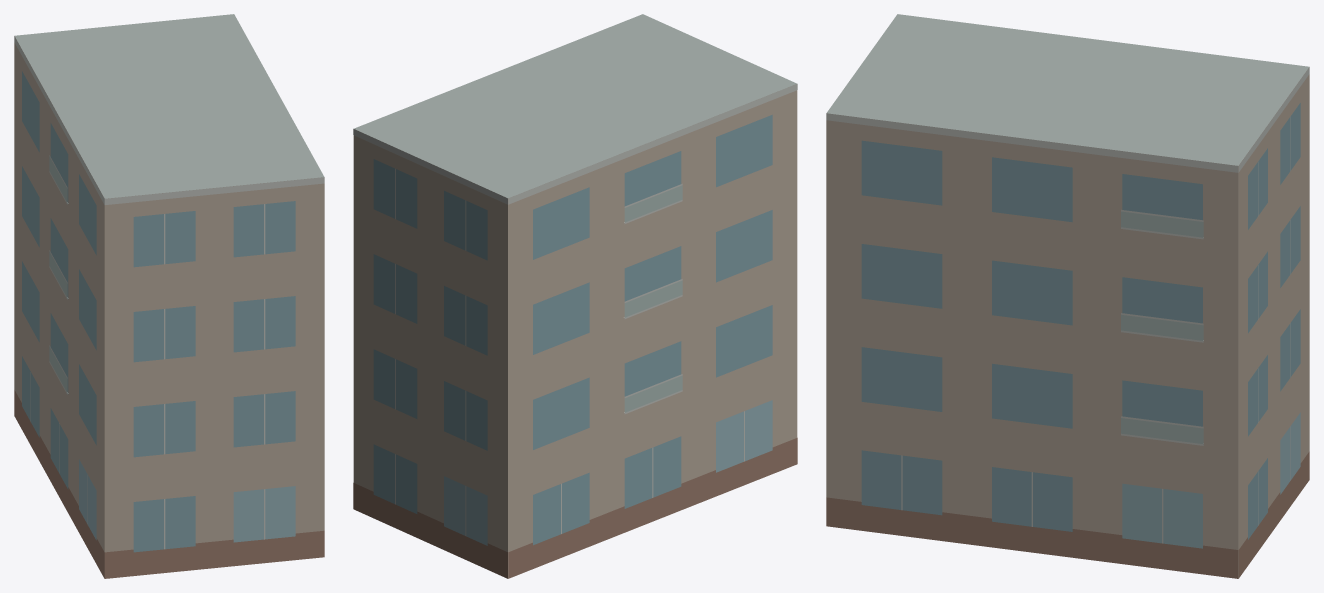
File: survey-upis-32707045.glb
3 renders of one model, left to right at view 1: azimuth 30°, elevation 25°; view 2: azimuth 150°, elevation 25°; view 3: azimuth 270°, elevation 25°, orthographic. The views are drawn at different scales.
Visible parts, largest first — view 1: survey-upis-32707045.tmp; view 2: survey-upis-32707045.tmp; view 3: survey-upis-32707045.tmp.
Boxes of the visible parts, x1,y1,x2,y2 form: survey-upis-32707045.tmp: [14, 14, 324, 578]; survey-upis-32707045.tmp: [353, 14, 797, 578]; survey-upis-32707045.tmp: [826, 14, 1309, 578].
Size of the model in its own units: 11.4 by 14.44 by 15.33.
